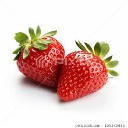strawberry: (56, 39, 119, 103), (12, 26, 67, 90)
